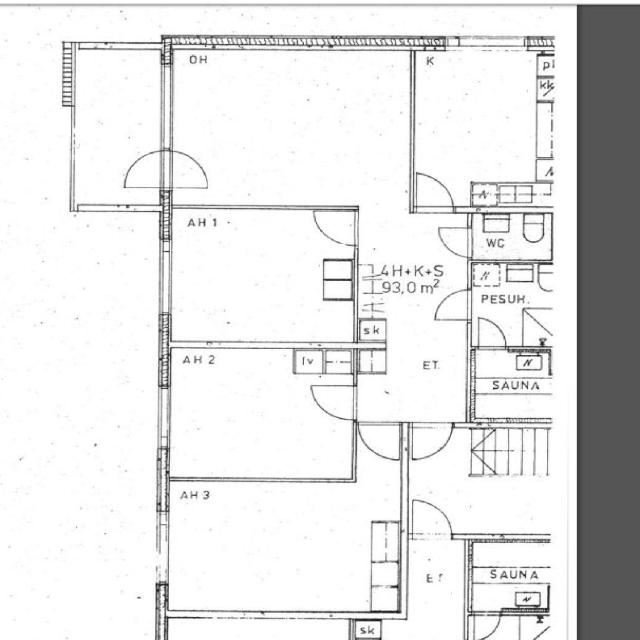door: (301, 376, 364, 424), (162, 145, 214, 193), (116, 147, 168, 194), (404, 495, 458, 540), (355, 418, 406, 465), (408, 169, 458, 216), (309, 205, 360, 251), (404, 419, 456, 464), (427, 288, 476, 324), (433, 223, 476, 260), (470, 314, 510, 353), (467, 610, 504, 640)
window: (151, 236, 180, 319), (150, 382, 178, 465), (153, 62, 178, 151), (448, 34, 528, 54)
zone: (170, 45, 415, 206), (164, 481, 398, 617), (167, 208, 355, 348), (165, 346, 354, 481), (410, 47, 550, 212), (70, 41, 162, 212), (470, 264, 548, 349), (466, 540, 552, 613), (470, 208, 552, 263), (468, 347, 552, 393), (467, 614, 548, 640)
